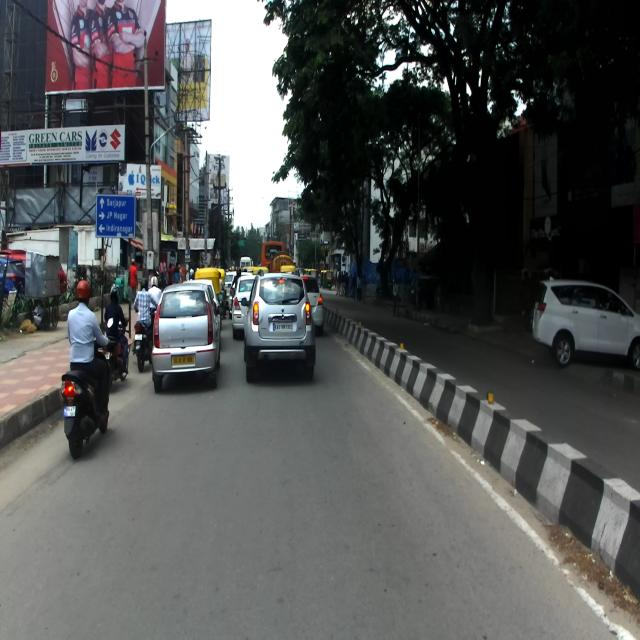car ahead at: (250, 267, 316, 376), (152, 285, 216, 386)
motorcycle ahead at: (62, 364, 116, 455)
